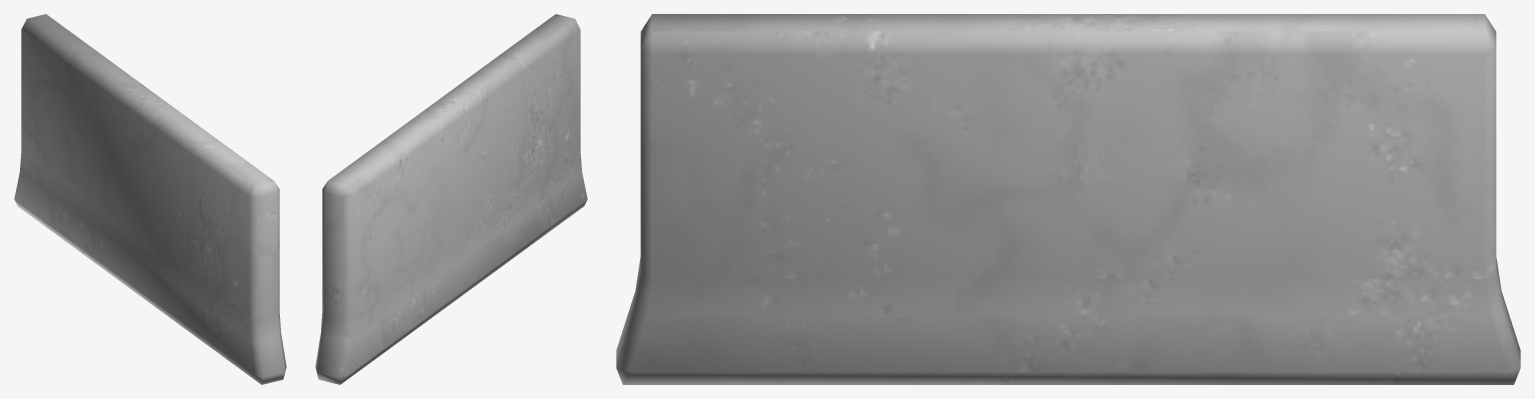
File: NEW BARRiCADE TALL.fbx
3 views of the same model, side by side, from view 1: azimuth 30°, elevation 25°; view 2: azimuth 150°, elevation 25°; view 3: azimuth 270°, elevation 25° (orthographic). The views are drawn at different scales.
Visible parts, largest first — view 1: Cube; view 2: Cube; view 3: Cube.
Boxes of the visible parts, x1,y1,x2,y2 form: Cube: [14, 14, 286, 384]; Cube: [315, 14, 587, 384]; Cube: [616, 14, 1520, 384].
Bounding box in the file's own units: 61.17 × 351 × 816.
